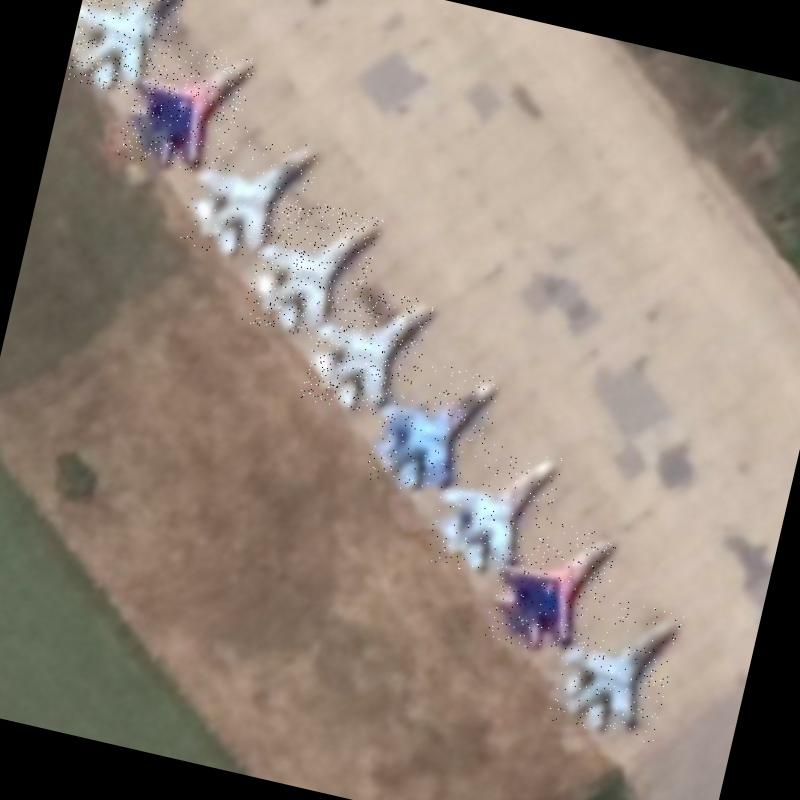A1: (241, 191, 384, 347), (178, 118, 322, 272), (423, 433, 564, 586), (114, 31, 256, 182), (482, 510, 622, 663), (364, 353, 503, 505), (547, 590, 684, 744), (299, 276, 435, 424)
A19: (64, 0, 189, 101)
